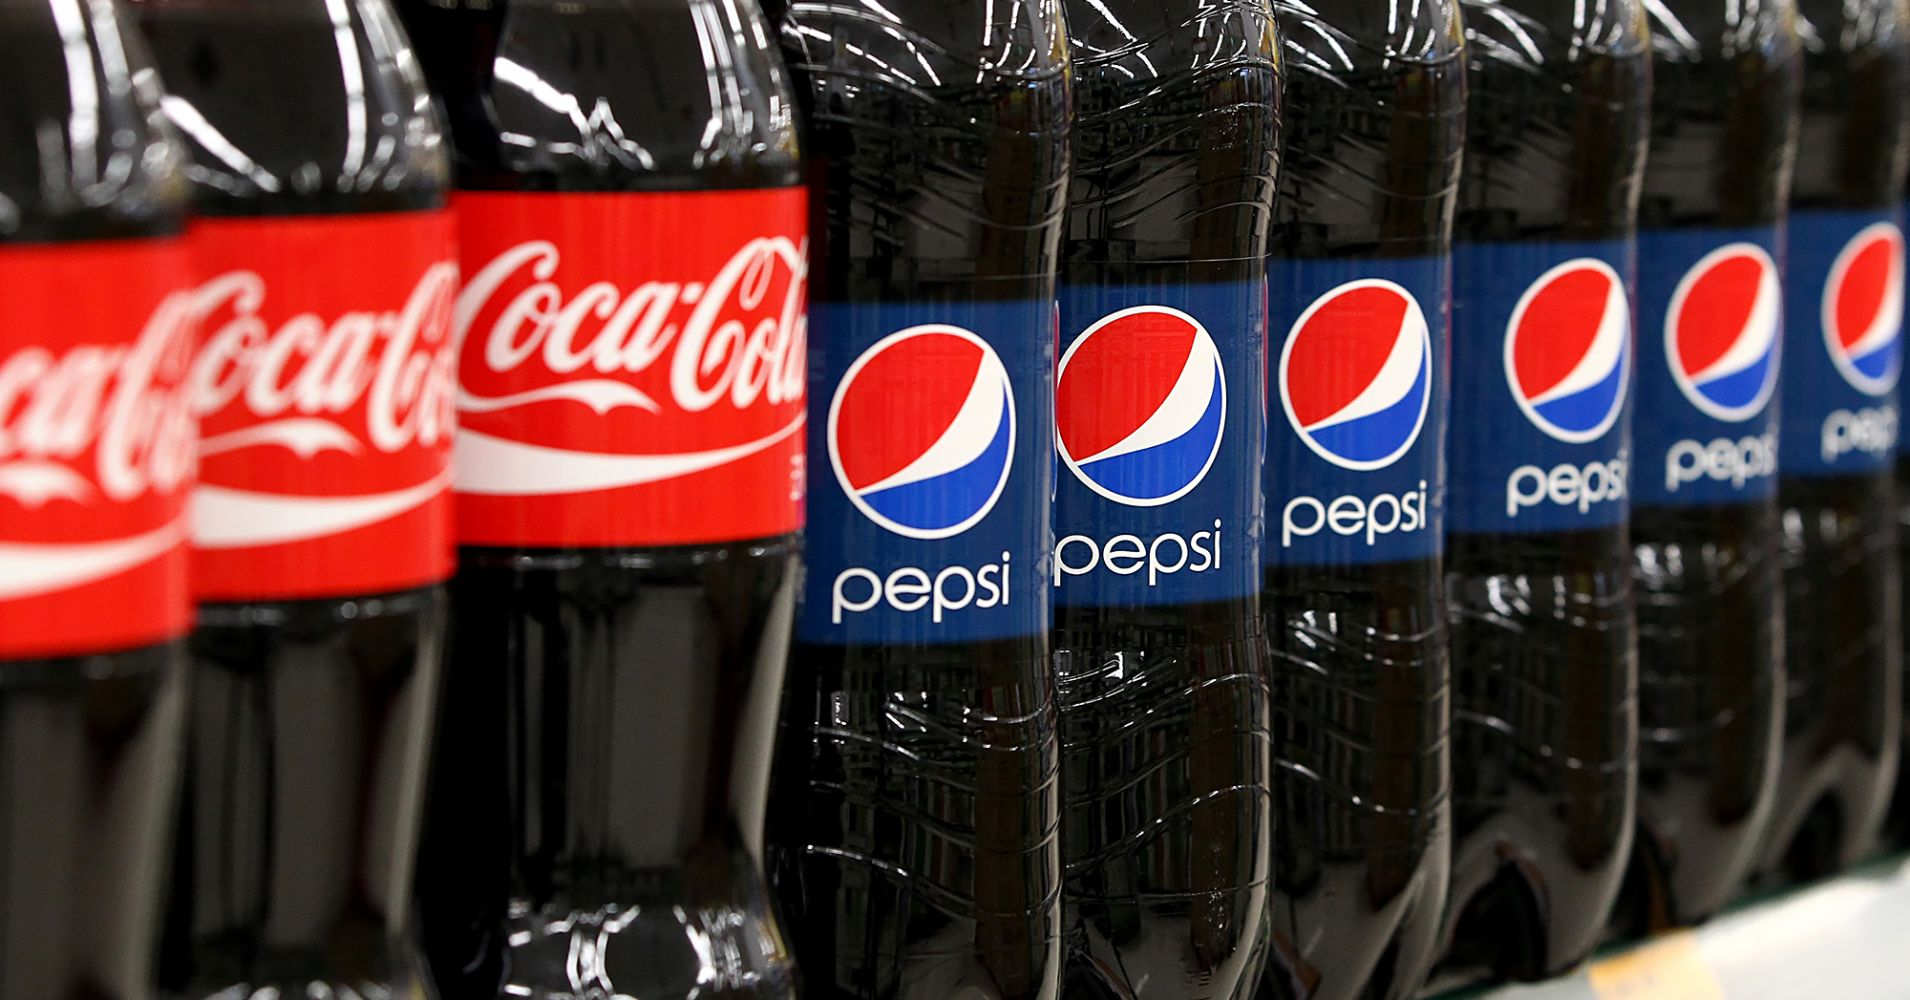pepsi: (819, 319, 1017, 540), (827, 319, 1017, 540), (1054, 304, 1227, 504), (1061, 304, 1227, 504), (1263, 280, 1432, 468), (1278, 275, 1432, 468), (1494, 255, 1633, 439), (1505, 255, 1633, 439), (1662, 239, 1782, 417), (1822, 222, 1902, 395)
